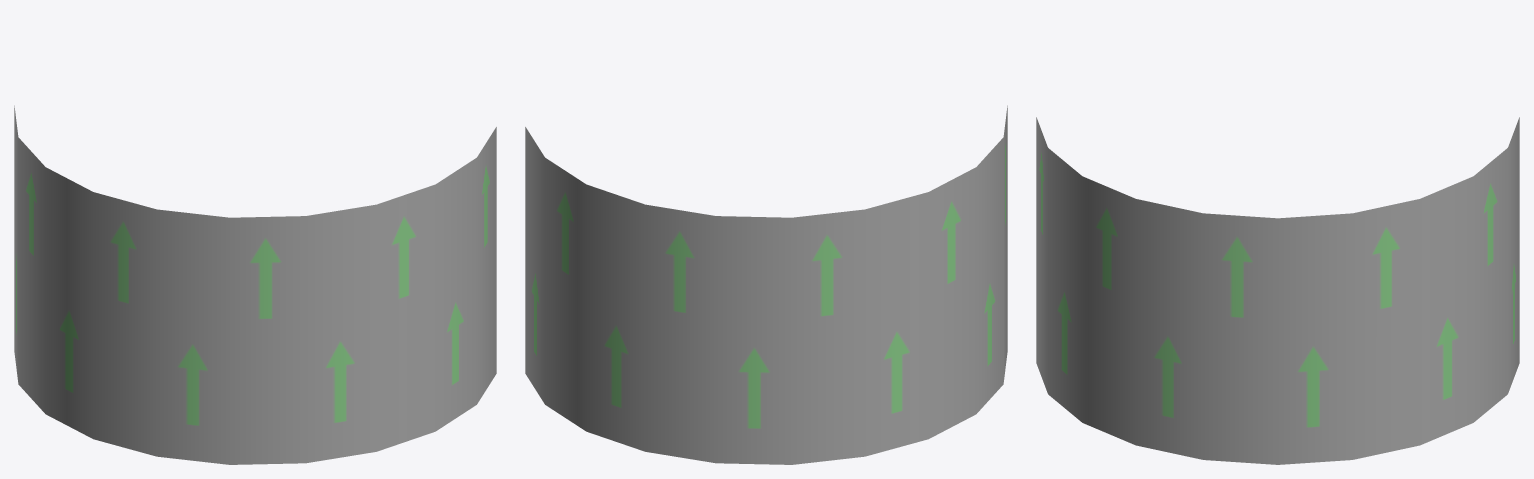
Rendered from EnemyToBigArrowMark.gltf.
3 renders of one model, left to right at view 1: azimuth 30°, elevation 25°; view 2: azimuth 150°, elevation 25°; view 3: azimuth 270°, elevation 25°, orthographic.
Visible parts, largest first — view 1: mawari; view 2: mawari; view 3: mawari.
Part boxes in pixels (x1=…): mawari: x1=14, y1=105, x2=496, y2=464; mawari: x1=525, y1=105, x2=1007, y2=464; mawari: x1=1036, y1=117, x2=1519, y2=464.
Size of the model in its own units: 2.62 by 1.47 by 2.62.
Materials: 1 (1 with a texture image).
